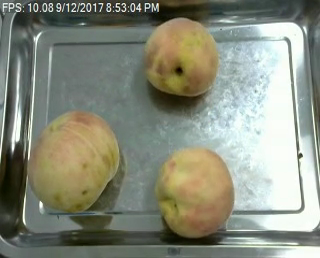Peach: (29, 107, 120, 212), (155, 144, 235, 239), (143, 16, 219, 96)
